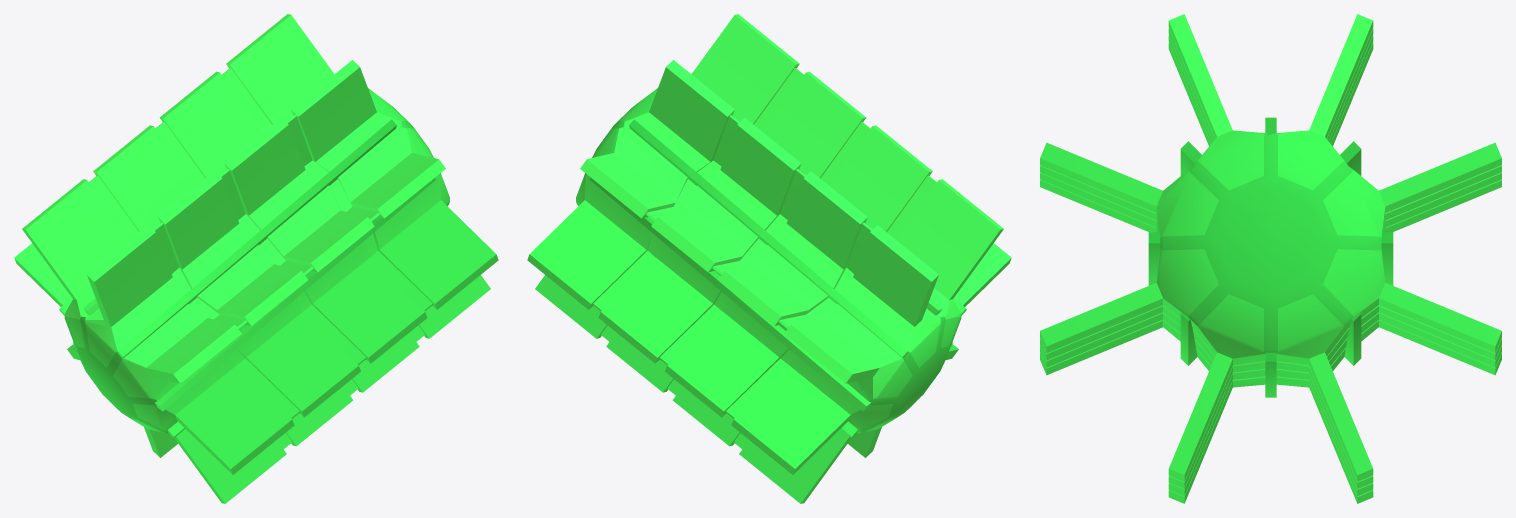
The model's file is Sketchfab_Scene.gltf.
The picture shows the model from 3 angles, left to right: view 1: azimuth 30°, elevation 25°; view 2: azimuth 150°, elevation 25°; view 3: azimuth 270°, elevation 25°; orthographic projection. The views are drawn at different scales.
Parts seen in each view (by area): view 1: Cube.032_4; view 2: Cube.032_4; view 3: Cube.032_4.
Part boxes in pixels (<box>): Cube.032_4: <box>14,14,498,503</box>; Cube.032_4: <box>527,14,1011,503</box>; Cube.032_4: <box>1040,14,1501,503</box>.
Bounding box in the file's own units: 0.7424 × 0.7287 × 0.5259.
Materials: 1 (1 with a texture image).
